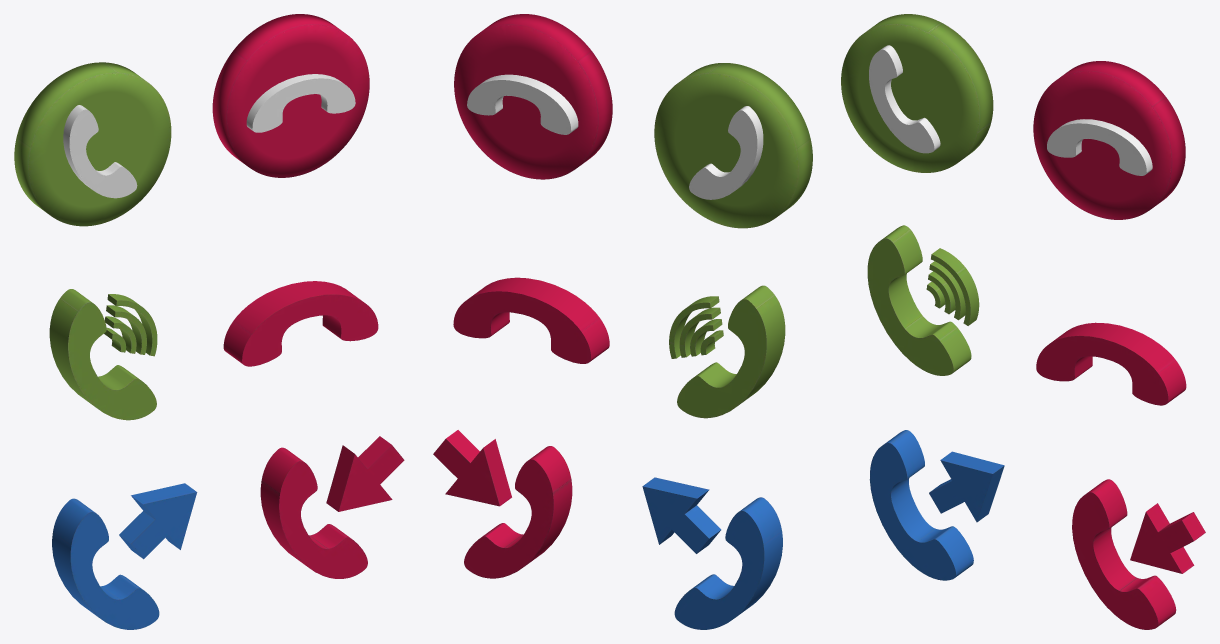
File: phone-transformed.glb
The picture shows the model from 3 angles, left to right: view 1: azimuth 30°, elevation 25°; view 2: azimuth 150°, elevation 25°; view 3: azimuth 330°, elevation 25°; orthographic projection. The views are drawn at different scales.
Visible parts, largest first — view 1: make_a_call, call_end, outcome_call, income_call, phone_ringing, end_call_2; view 2: call_end, make_a_call, outcome_call, income_call, phone_ringing, end_call_2; view 3: make_a_call, call_end, income_call, outcome_call, phone_ringing, end_call_2.
Boxes of the visible parts, <box> form: make_a_call: <box>14,62,171,226</box>; call_end: <box>212,14,369,177</box>; outcome_call: <box>52,483,197,629</box>; income_call: <box>260,436,404,578</box>; phone_ringing: <box>49,289,157,420</box>; end_call_2: <box>223,281,378,366</box>; call_end: <box>454,14,612,179</box>; make_a_call: <box>654,63,812,228</box>; outcome_call: <box>642,477,782,629</box>; income_call: <box>433,430,572,578</box>; phone_ringing: <box>669,285,785,418</box>; end_call_2: <box>453,277,609,363</box>; make_a_call: <box>841,14,993,172</box>; call_end: <box>1033,61,1185,219</box>; income_call: <box>1072,479,1205,629</box>; outcome_call: <box>869,430,1004,580</box>; phone_ringing: <box>867,225,979,375</box>; end_call_2: <box>1036,322,1186,405</box>.
Bounding box in the file's own units: 51.31 × 73.91 × 6.61.
Materials: 6 (6 with a texture image).
